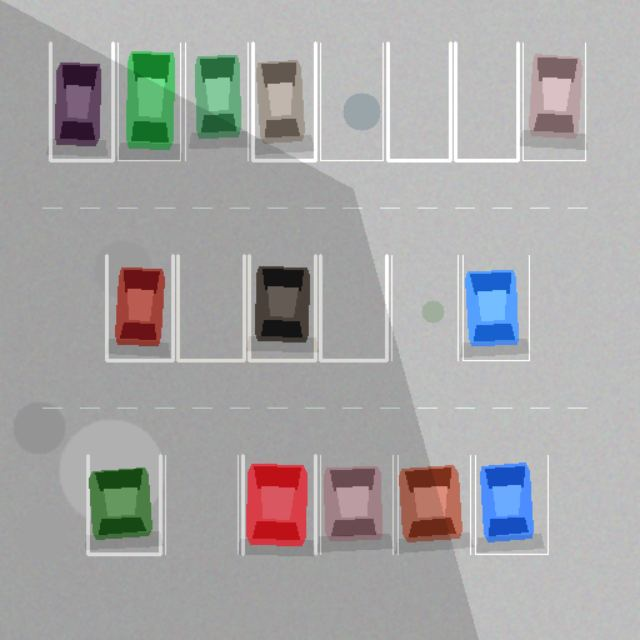space-empty: (455, 42, 518, 160), (320, 42, 382, 160), (388, 42, 450, 160), (165, 455, 237, 554), (391, 255, 458, 360), (178, 255, 244, 360), (320, 255, 386, 360)
space-occupied: (185, 42, 248, 160), (252, 42, 315, 160), (522, 42, 585, 160), (50, 42, 112, 160), (118, 42, 180, 160), (87, 455, 160, 554), (320, 455, 393, 554), (397, 455, 470, 554), (243, 455, 315, 554), (475, 455, 547, 554), (462, 255, 529, 360), (106, 255, 172, 360), (249, 255, 315, 360)
